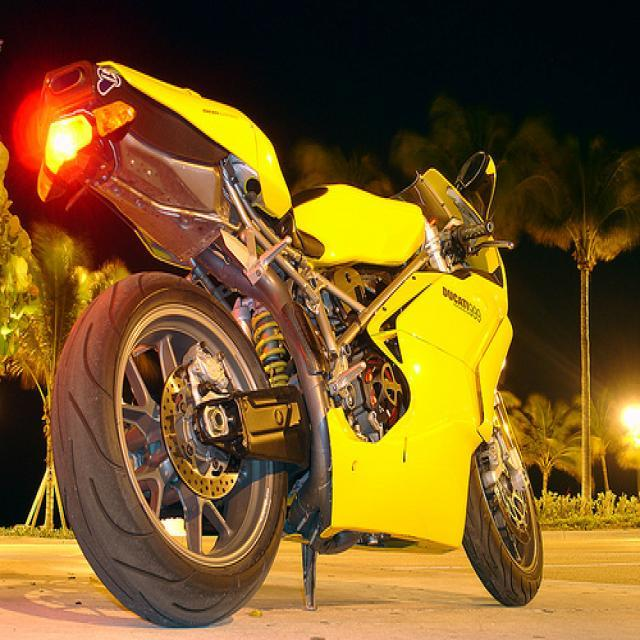Motorbike: (39, 50, 564, 640)
